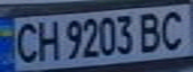0: (97, 14, 118, 57)
2: (78, 15, 103, 60)
3: (115, 11, 139, 55)
9: (60, 16, 84, 61)
B: (136, 9, 166, 54)
C: (154, 7, 193, 52), (6, 19, 42, 64)
H: (30, 17, 60, 63)
